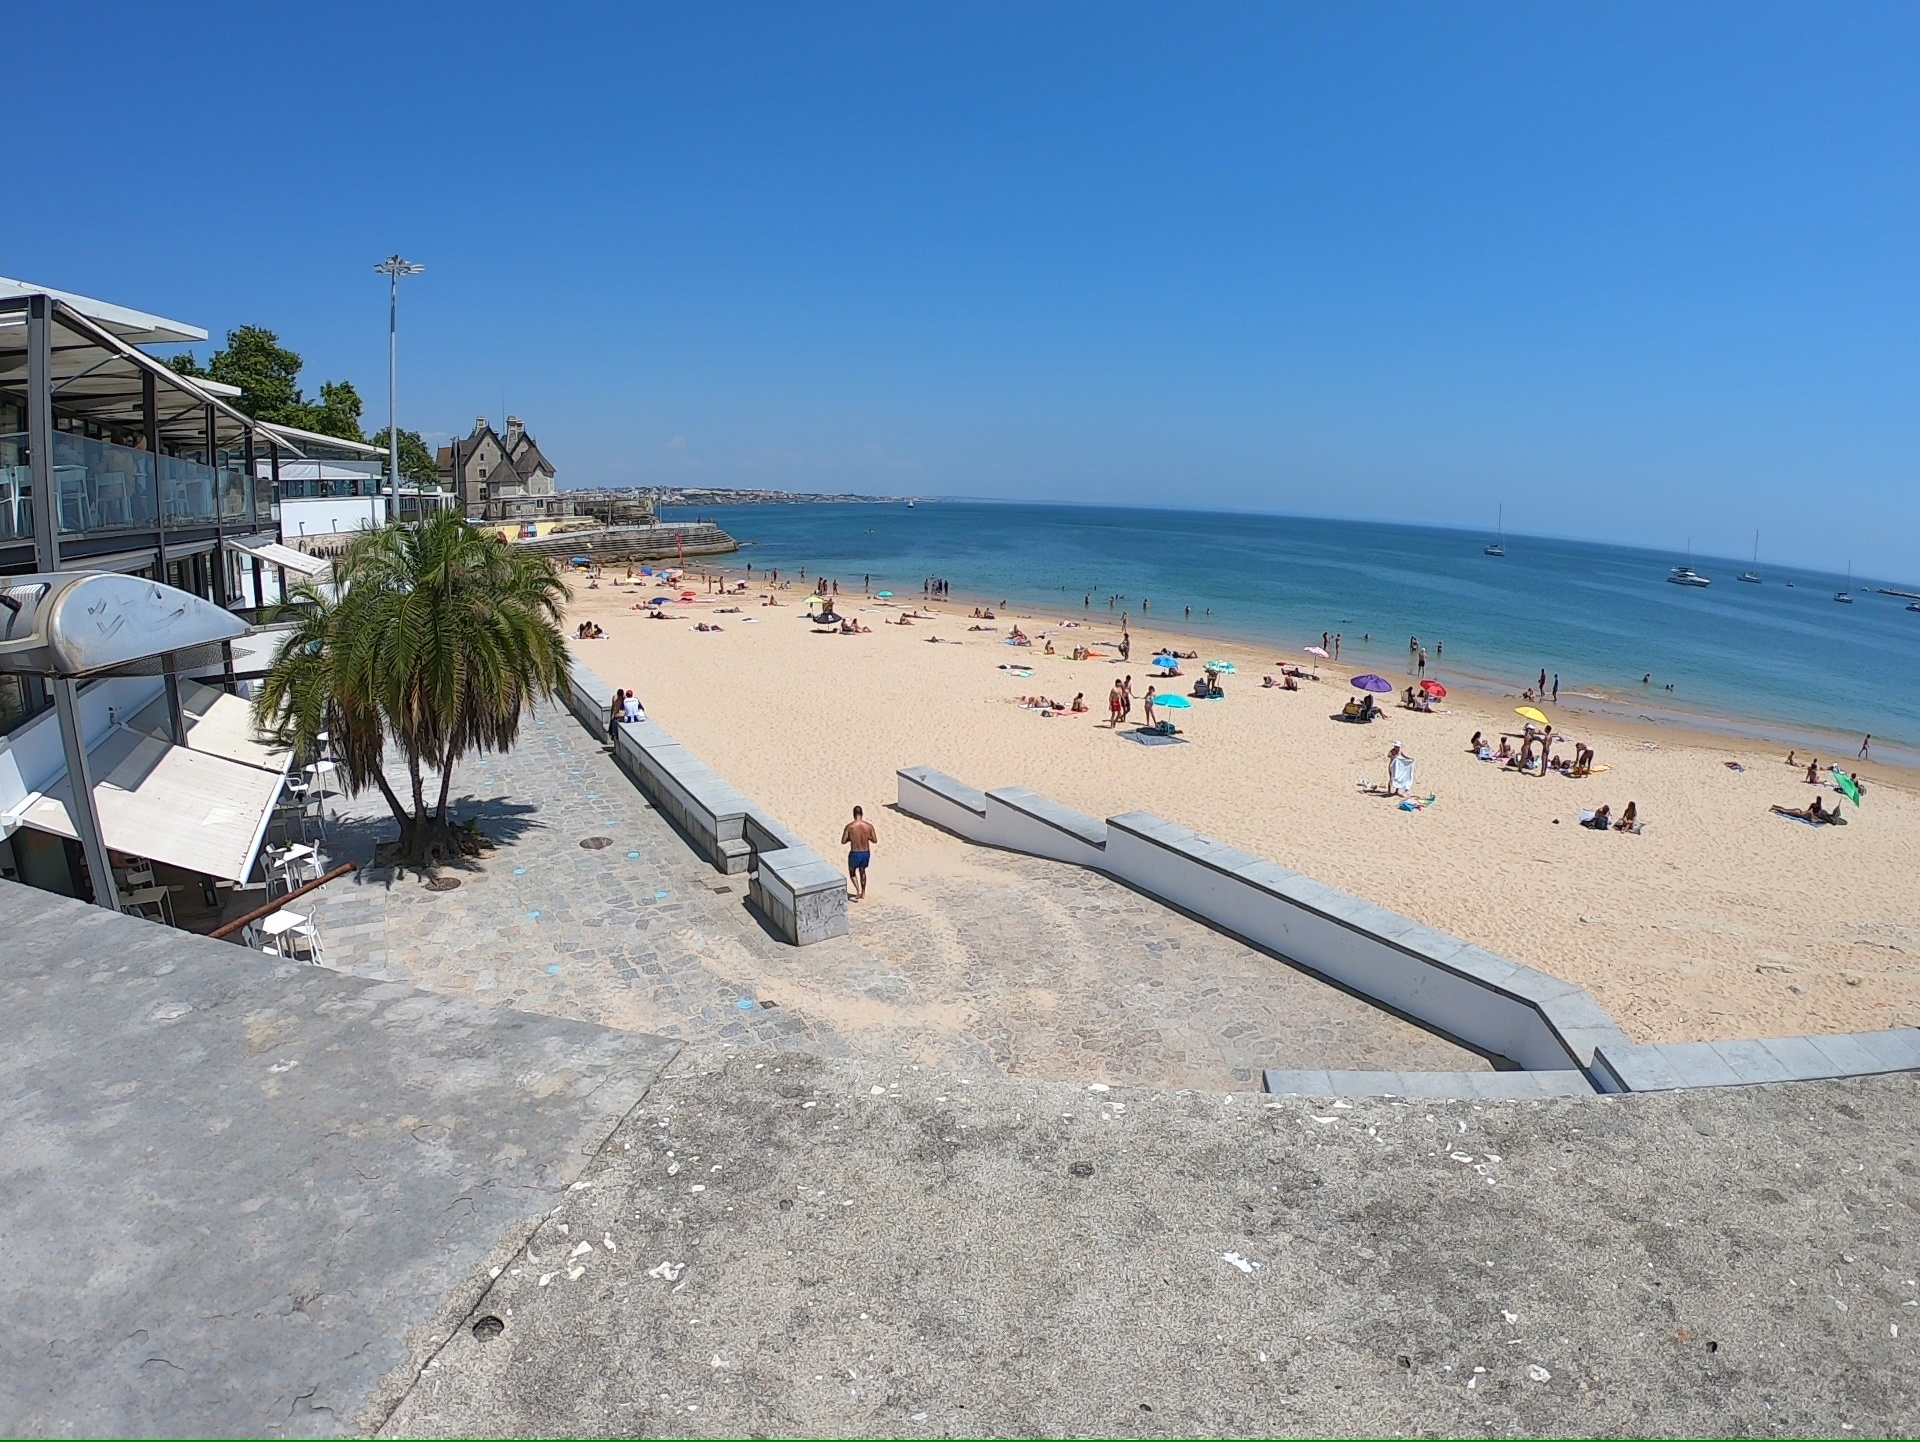person: (839, 804, 881, 883), (1387, 736, 1409, 791), (1539, 724, 1557, 774), (622, 687, 645, 722), (1573, 740, 1595, 777), (1618, 799, 1640, 832), (1109, 676, 1121, 728), (1118, 630, 1132, 660), (1595, 801, 1610, 830), (1470, 729, 1488, 751), (1520, 719, 1535, 746), (1416, 644, 1428, 676), (1344, 693, 1357, 723), (1499, 733, 1511, 758), (1072, 692, 1086, 713), (1551, 670, 1560, 701), (1538, 666, 1546, 701), (1282, 673, 1298, 688), (1261, 673, 1275, 688), (1144, 684, 1156, 701), (1404, 681, 1415, 698), (853, 617, 861, 631), (1125, 672, 1132, 689), (1044, 638, 1053, 651), (841, 616, 850, 630), (585, 619, 594, 632), (578, 620, 584, 630)
